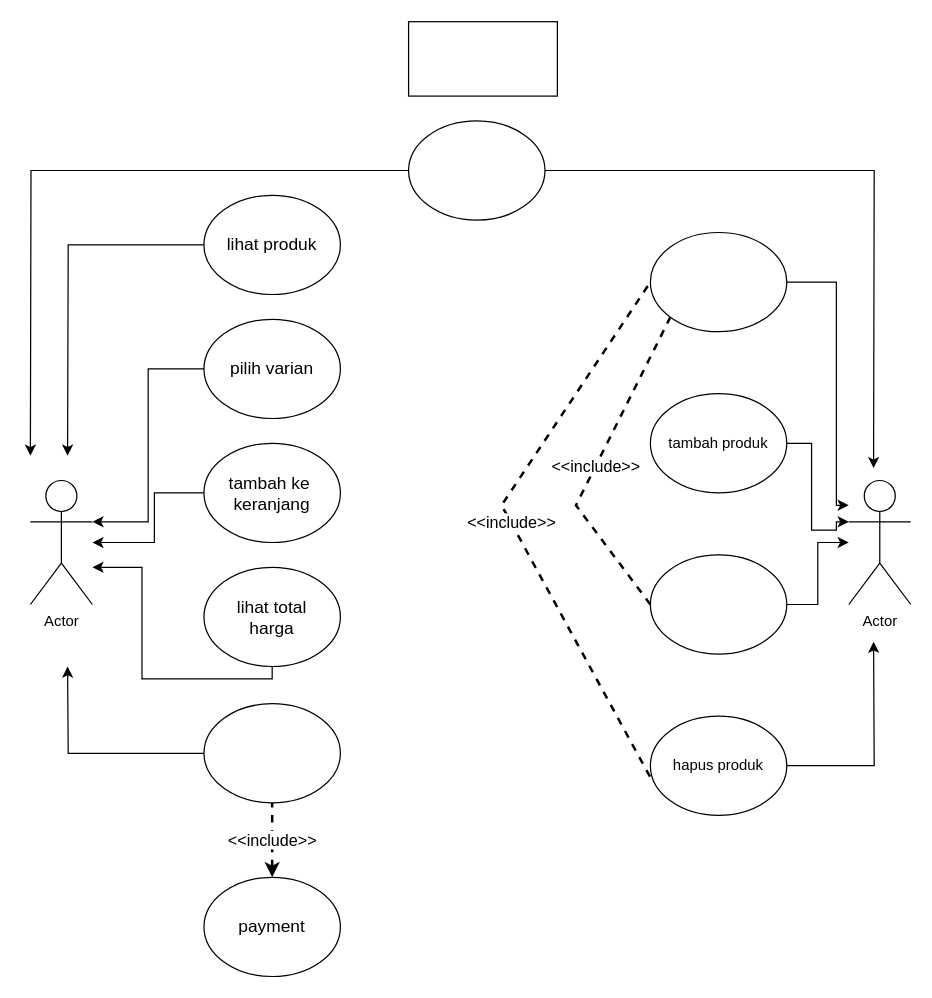
The diagram is 932 pixels wide and 998 high, and some of its shapes have lost their labels. Each missing label, with the centre of its shape:
"checkout" goes at (271,752).
"edit produk" goes at (718,604).
"kelola produk" goes at (718,281).
"login" goes at (476,170).
"sistem penjualan roti kacang" goes at (482,58).
